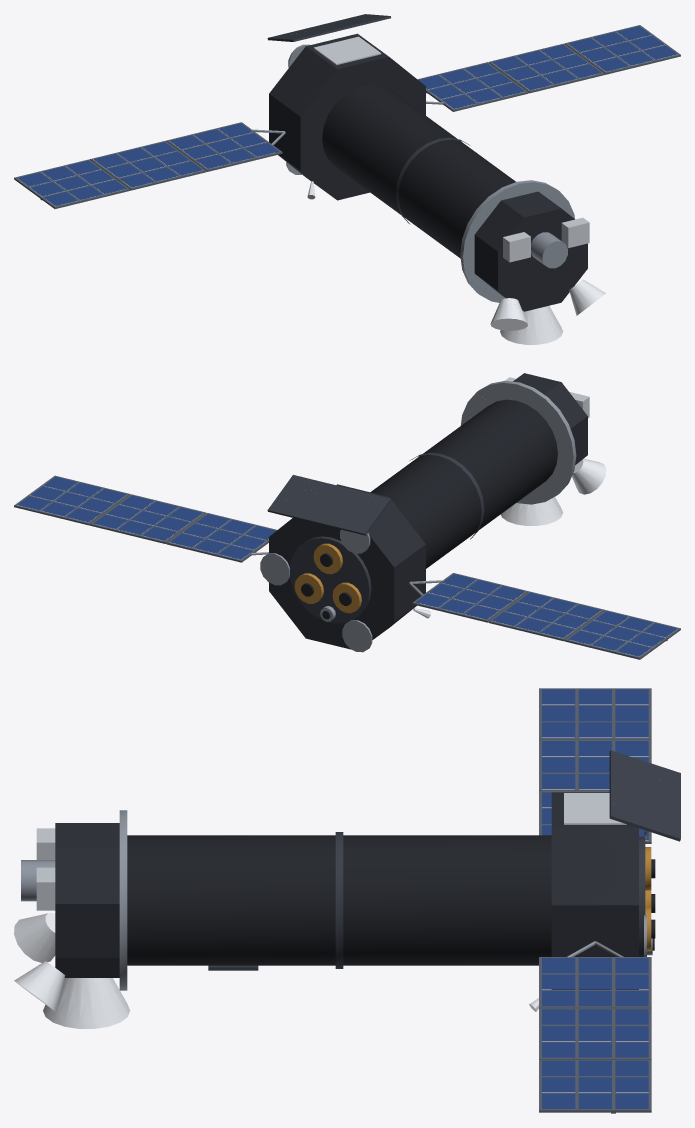
File: xmm-newton.glb
3 views of the same model, one above another, from view 1: azimuth 30°, elevation 25°; view 2: azimuth 150°, elevation 25°; view 3: azimuth 270°, elevation 25° (orthographic). The views are drawn at different scales.
Visible parts, largest first — view 1: foil, body, solar-panel; view 2: foil, body, solar-panel; view 3: foil, body, solar-panel.
Part boxes in pixels (bbox=[...]): foil: bbox=[269, 33, 587, 311]; body: bbox=[14, 14, 680, 344]; solar-panel: bbox=[17, 26, 677, 205]; foil: bbox=[269, 373, 587, 649]; body: bbox=[14, 377, 680, 659]; solar-panel: bbox=[17, 477, 677, 656]; foil: bbox=[55, 792, 651, 989]; body: bbox=[14, 688, 680, 1113]; solar-panel: bbox=[542, 689, 648, 1108].
Size of the model in its own units: 16 by 4.03 by 10.69.
